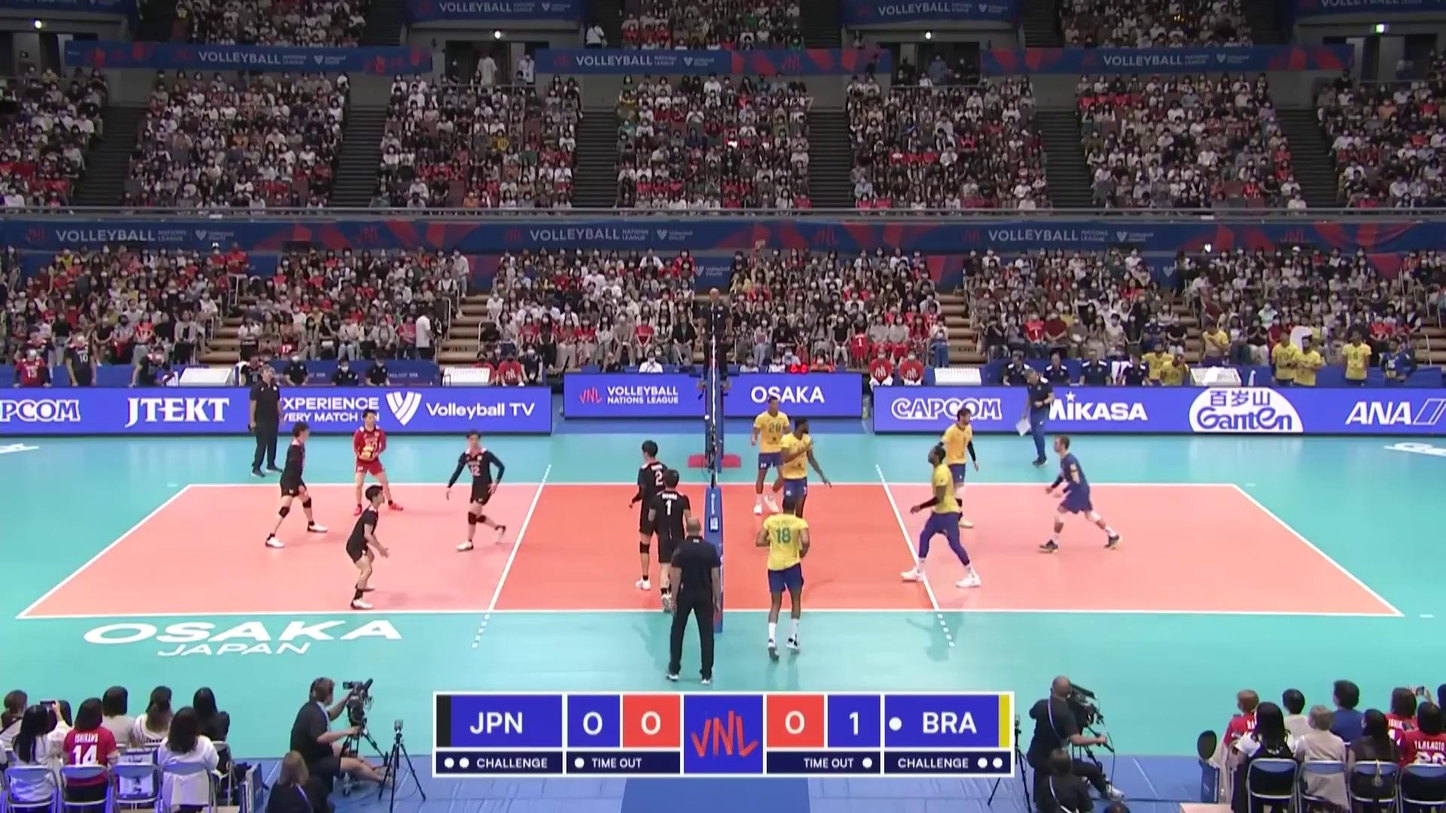player: (900, 450, 981, 590), (1040, 438, 1121, 553), (263, 422, 329, 549), (446, 430, 512, 550), (762, 495, 811, 655), (630, 441, 676, 590), (341, 487, 393, 608), (780, 416, 822, 556), (935, 407, 983, 529), (351, 408, 405, 516), (656, 470, 691, 612), (754, 398, 794, 514)
refree: (670, 518, 722, 687), (698, 289, 731, 389)
